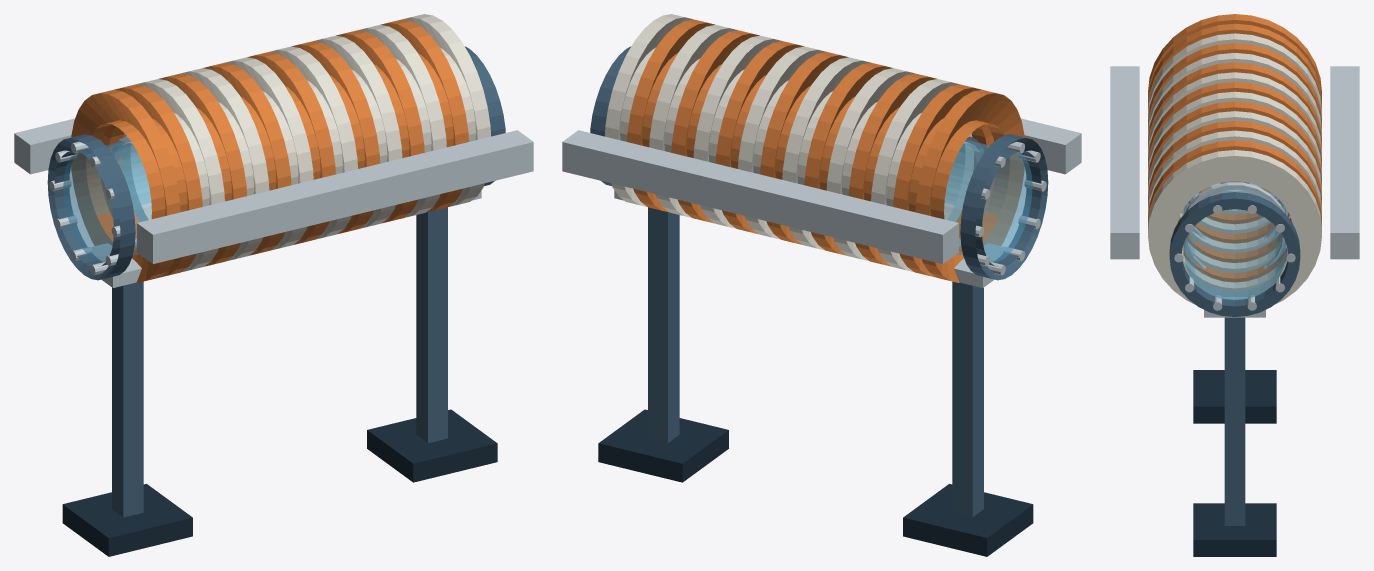
Rendered from 11_L75_CeramicIonAccelerationColumn.fbx.
The picture shows the model from 3 angles, left to right: view 1: azimuth 30°, elevation 25°; view 2: azimuth 150°, elevation 25°; view 3: azimuth 270°, elevation 25°; orthographic projection. The views are drawn at different scales.
Parts seen in each view (by area): view 1: CeramicIonAccelerationColumn, CeramicIonAccelerationColumn_Part_0028, CeramicIonAccelerationColumn_Part_0030, CeramicIonAccelerationColumn_Part_0029, CeramicIonAccelerationColumn_Part_0036, CeramicIonAccelerationColumn_Part_0034, CeramicIonAccelerationColumn_Part_0035, CeramicIonAccelerationColumn_Part_0040, CeramicIonAccelerationColumn_Part_0032, CeramicIonAccelerationColumn_Part_0038, CeramicIonAccelerationColumn_Part_0041, CeramicIonAccelerationColumn_Part_0039 (+4 smaller); view 2: CeramicIonAccelerationColumn, CeramicIonAccelerationColumn_Part_0028, CeramicIonAccelerationColumn_Part_0030, CeramicIonAccelerationColumn_Part_0029, CeramicIonAccelerationColumn_Part_0036, CeramicIonAccelerationColumn_Part_0034, CeramicIonAccelerationColumn_Part_0035, CeramicIonAccelerationColumn_Part_0040, CeramicIonAccelerationColumn_Part_0032, CeramicIonAccelerationColumn_Part_0038, CeramicIonAccelerationColumn_Part_0041, CeramicIonAccelerationColumn_Part_0039 (+4 smaller); view 3: CeramicIonAccelerationColumn, CeramicIonAccelerationColumn_Part_0042, CeramicIonAccelerationColumn_Part_0039, CeramicIonAccelerationColumn_Part_0041, CeramicIonAccelerationColumn_Part_0040, CeramicIonAccelerationColumn_Part_0038, CeramicIonAccelerationColumn_Part_0037, CeramicIonAccelerationColumn_Part_0036, CeramicIonAccelerationColumn_Part_0035, CeramicIonAccelerationColumn_Part_0034, CeramicIonAccelerationColumn_Part_0032, CeramicIonAccelerationColumn_Part_0033 (+4 smaller).
Part boxes in pixels (bbox=[...]): CeramicIonAccelerationColumn: bbox=[14, 46, 533, 556]; CeramicIonAccelerationColumn_Part_0028: bbox=[71, 90, 180, 282]; CeramicIonAccelerationColumn_Part_0030: bbox=[122, 79, 224, 271]; CeramicIonAccelerationColumn_Part_0029: bbox=[101, 84, 202, 277]; CeramicIonAccelerationColumn_Part_0036: bbox=[269, 46, 357, 239]; CeramicIonAccelerationColumn_Part_0034: bbox=[225, 57, 313, 250]; CeramicIonAccelerationColumn_Part_0035: bbox=[247, 52, 335, 244]; CeramicIonAccelerationColumn_Part_0040: bbox=[358, 25, 446, 217]; CeramicIonAccelerationColumn_Part_0032: bbox=[181, 68, 269, 261]; CeramicIonAccelerationColumn_Part_0038: bbox=[314, 35, 402, 228]; CeramicIonAccelerationColumn_Part_0041: bbox=[380, 19, 468, 212]; CeramicIonAccelerationColumn_Part_0039: bbox=[336, 30, 424, 223]; CeramicIonAccelerationColumn: bbox=[562, 46, 1081, 556]; CeramicIonAccelerationColumn_Part_0028: bbox=[915, 90, 1024, 282]; CeramicIonAccelerationColumn_Part_0030: bbox=[871, 79, 973, 271]; CeramicIonAccelerationColumn_Part_0029: bbox=[893, 84, 994, 277]; CeramicIonAccelerationColumn_Part_0036: bbox=[738, 46, 826, 239]; CeramicIonAccelerationColumn_Part_0034: bbox=[782, 57, 870, 250]; CeramicIonAccelerationColumn_Part_0035: bbox=[760, 52, 848, 244]; CeramicIonAccelerationColumn_Part_0040: bbox=[649, 25, 737, 217]; CeramicIonAccelerationColumn_Part_0032: bbox=[826, 68, 914, 261]; CeramicIonAccelerationColumn_Part_0038: bbox=[693, 35, 781, 228]; CeramicIonAccelerationColumn_Part_0041: bbox=[627, 19, 715, 212]; CeramicIonAccelerationColumn_Part_0039: bbox=[671, 30, 759, 223]; CeramicIonAccelerationColumn: bbox=[1110, 66, 1359, 556]; CeramicIonAccelerationColumn_Part_0042: bbox=[1148, 150, 1321, 304]; CeramicIonAccelerationColumn_Part_0039: bbox=[1148, 121, 1321, 262]; CeramicIonAccelerationColumn_Part_0041: bbox=[1148, 140, 1321, 282]; CeramicIonAccelerationColumn_Part_0040: bbox=[1148, 130, 1321, 272]; CeramicIonAccelerationColumn_Part_0038: bbox=[1148, 111, 1321, 253]; CeramicIonAccelerationColumn_Part_0037: bbox=[1148, 101, 1321, 243]; CeramicIonAccelerationColumn_Part_0036: bbox=[1148, 91, 1321, 233]; CeramicIonAccelerationColumn_Part_0035: bbox=[1148, 82, 1321, 224]; CeramicIonAccelerationColumn_Part_0034: bbox=[1148, 72, 1321, 214]; CeramicIonAccelerationColumn_Part_0032: bbox=[1148, 53, 1321, 193]; CeramicIonAccelerationColumn_Part_0033: bbox=[1148, 62, 1321, 195].
Bounding box in the file's own units: 195 × 206 × 120.
